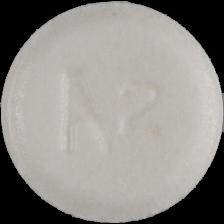60429-027: (0, 0, 224, 224)
